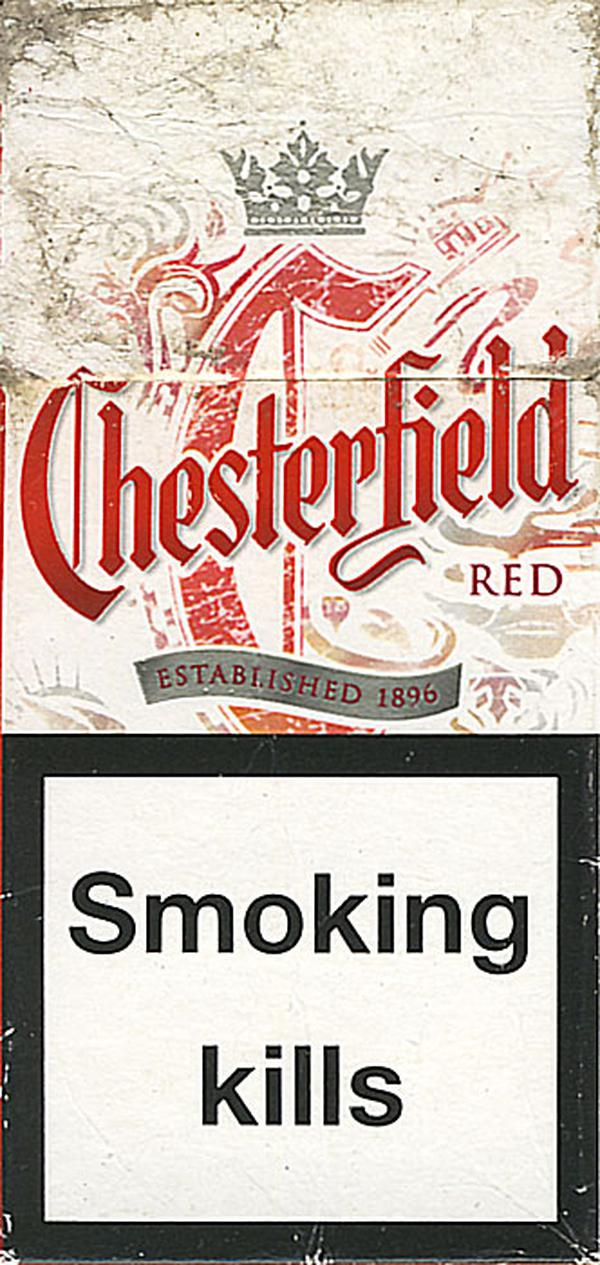chesterfield_red: (1, 1, 598, 1262)
